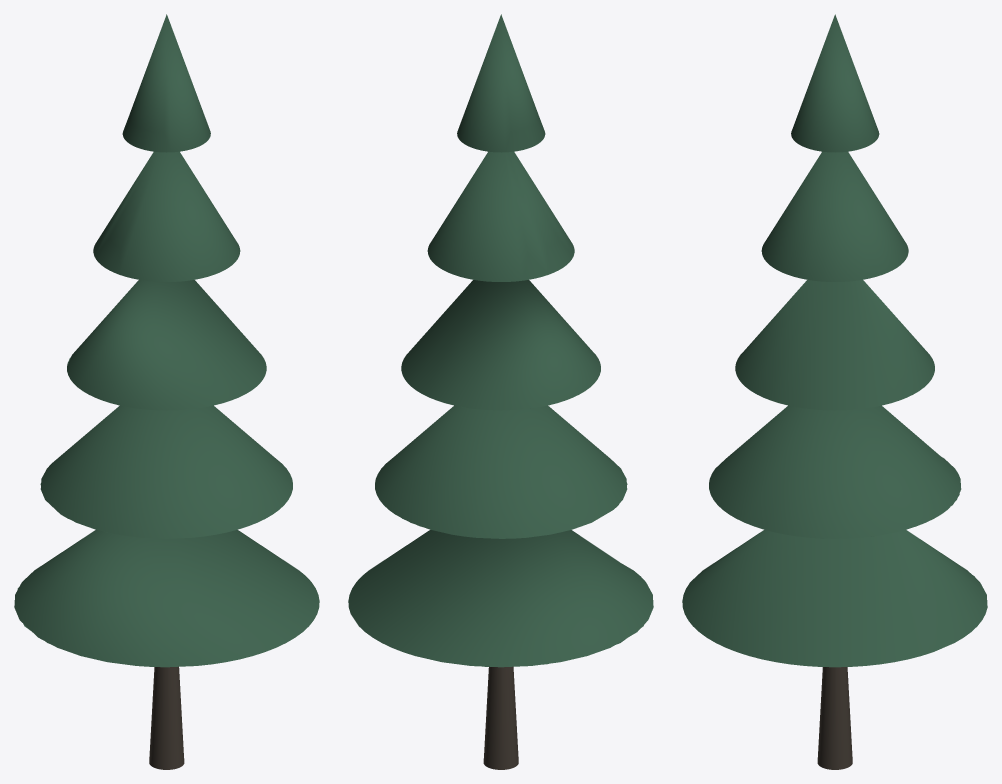
Rendered from e07-eastern-white-pine.lod1.glb.
The picture shows the model from 3 angles, left to right: view 1: azimuth 30°, elevation 25°; view 2: azimuth 150°, elevation 25°; view 3: azimuth 270°, elevation 25°; orthographic projection.
Parts seen in each view (by area): view 1: part1, part2, part3, part4, part5, part0; view 2: part1, part2, part3, part4, part5, part0; view 3: part1, part2, part3, part4, part5, part0.
Part boxes in pixels (x1,y1,x2,y2): part1: (14, 530, 319, 667); part2: (40, 405, 292, 538); part3: (67, 280, 266, 410); part4: (93, 151, 240, 281); part5: (122, 14, 210, 152); part0: (149, 666, 184, 769); part1: (348, 530, 653, 667); part2: (375, 405, 627, 538); part3: (401, 280, 600, 410); part4: (427, 151, 574, 281); part5: (457, 14, 545, 152); part0: (483, 666, 518, 769); part1: (682, 530, 987, 667); part2: (709, 405, 961, 538); part3: (735, 280, 934, 410); part4: (761, 151, 908, 281); part5: (791, 14, 879, 152); part0: (817, 667, 852, 769).
Bounding box in the file's own units: 10393 × 28100 × 10384.
